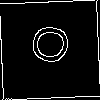O: (25, 24, 69, 65)
